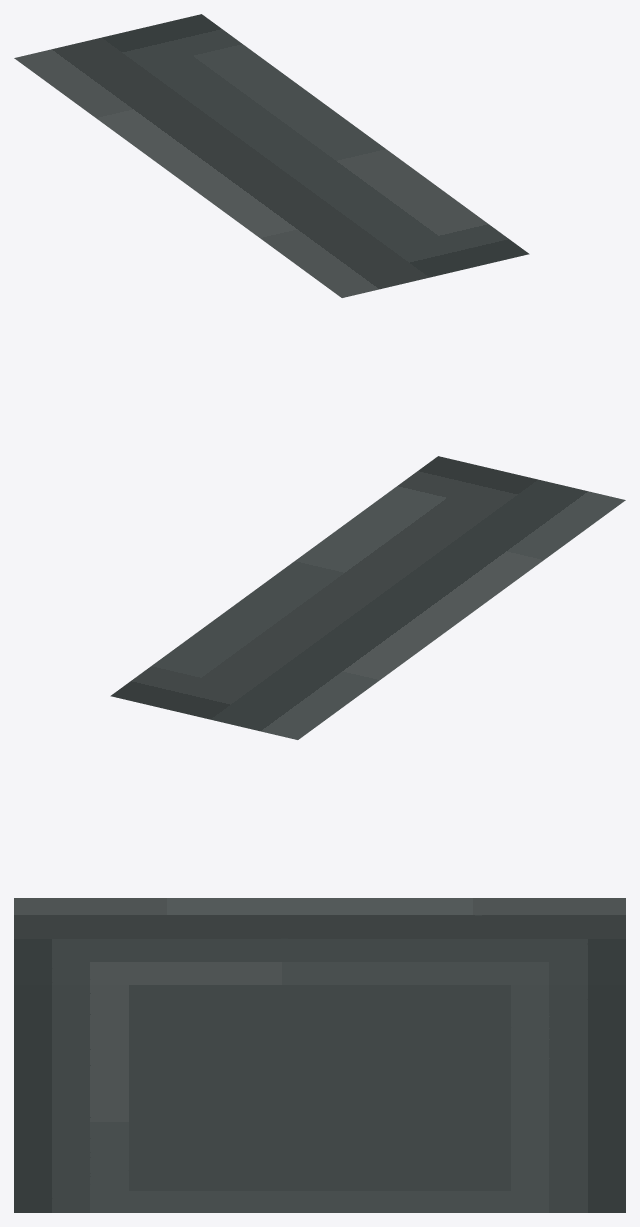
3 views of the same model, one above another, from view 1: azimuth 30°, elevation 25°; view 2: azimuth 150°, elevation 25°; view 3: azimuth 270°, elevation 25° (orthographic). The views are drawn at different scales.
Bounding box in the file's own units: 0.5 × 0.3348 × 1.
Materials: 1 (1 with a texture image).
